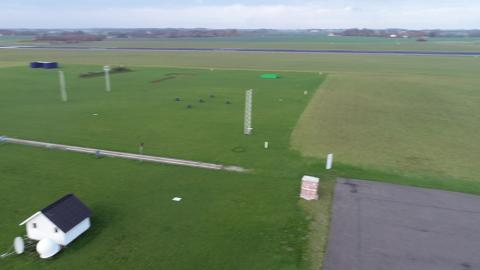RockwoolPallet: (299, 175, 321, 202)
